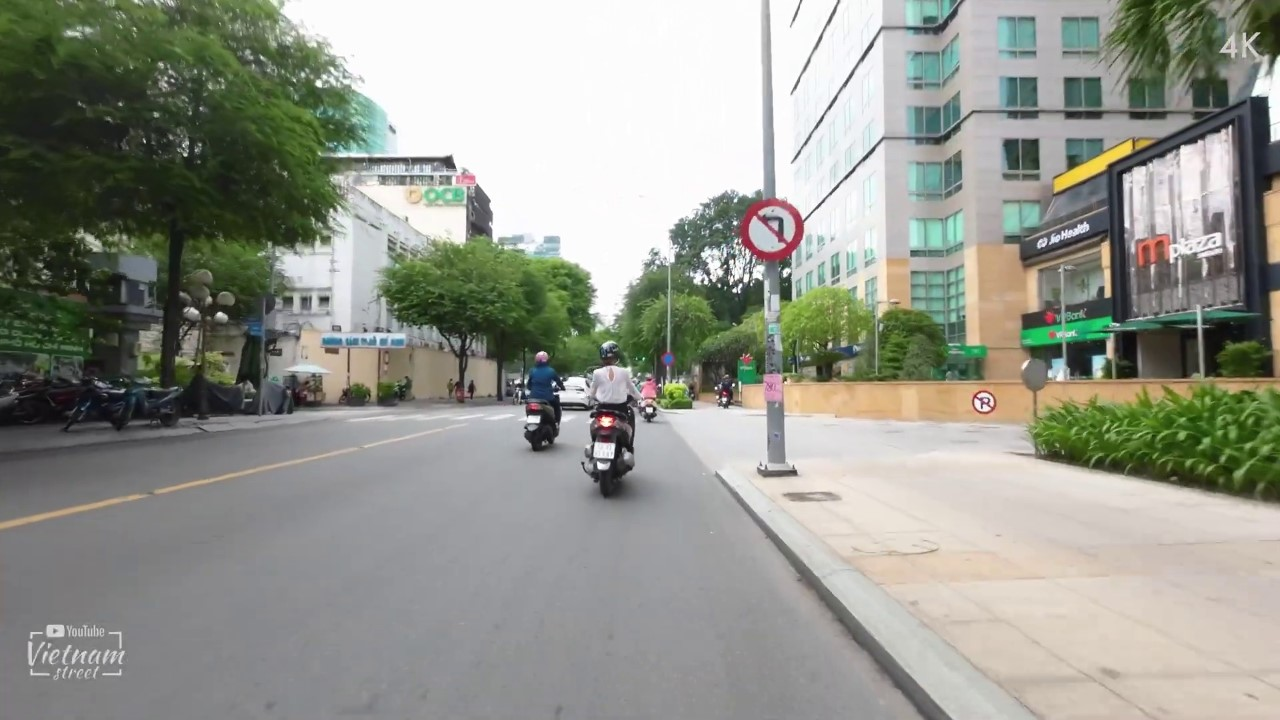cam_re_trai: (739, 198, 804, 262)
